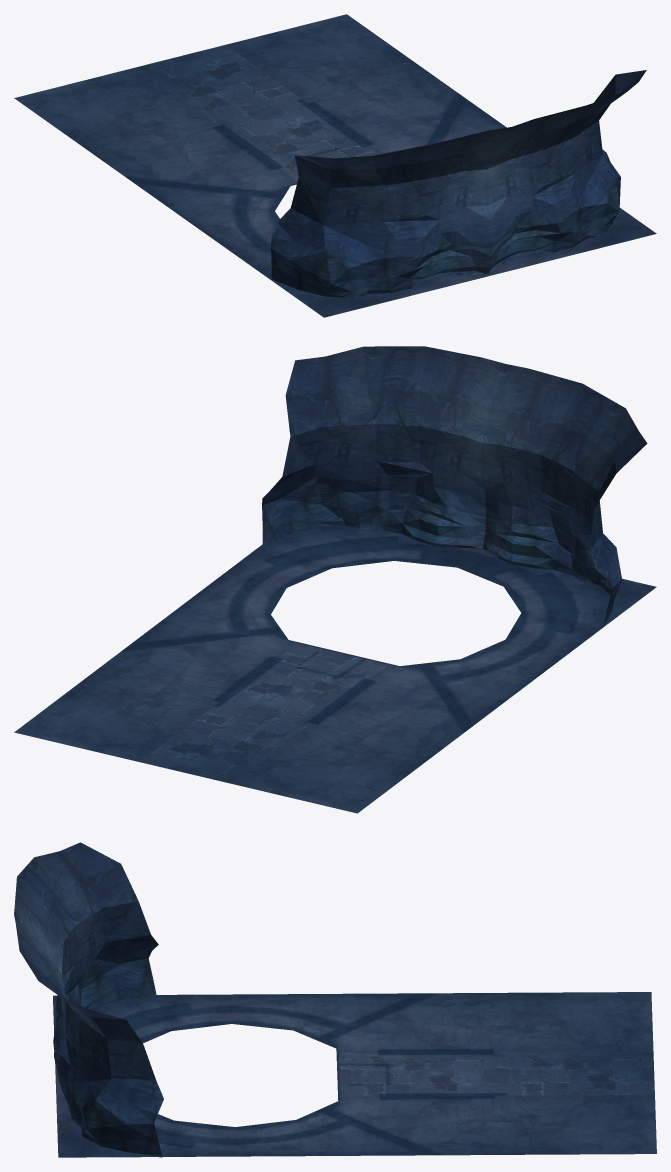
Rendered from Area_01_3.FBX.
The picture shows the model from 3 angles, top to bottom: view 1: azimuth 30°, elevation 25°; view 2: azimuth 150°, elevation 25°; view 3: azimuth 270°, elevation 25°; orthographic projection. The views are drawn at different scales.
Parts seen in each view (by area): view 1: Area_01_3; view 2: Area_01_3; view 3: Area_01_3.
Part boxes in pixels (bbox=[...]): Area_01_3: bbox=[14, 14, 656, 317]; Area_01_3: bbox=[14, 346, 656, 813]; Area_01_3: bbox=[14, 842, 656, 1157].
Size of the model in its own units: 2930 by 1347 by 4750.
Materials: 1 (1 with a texture image).
